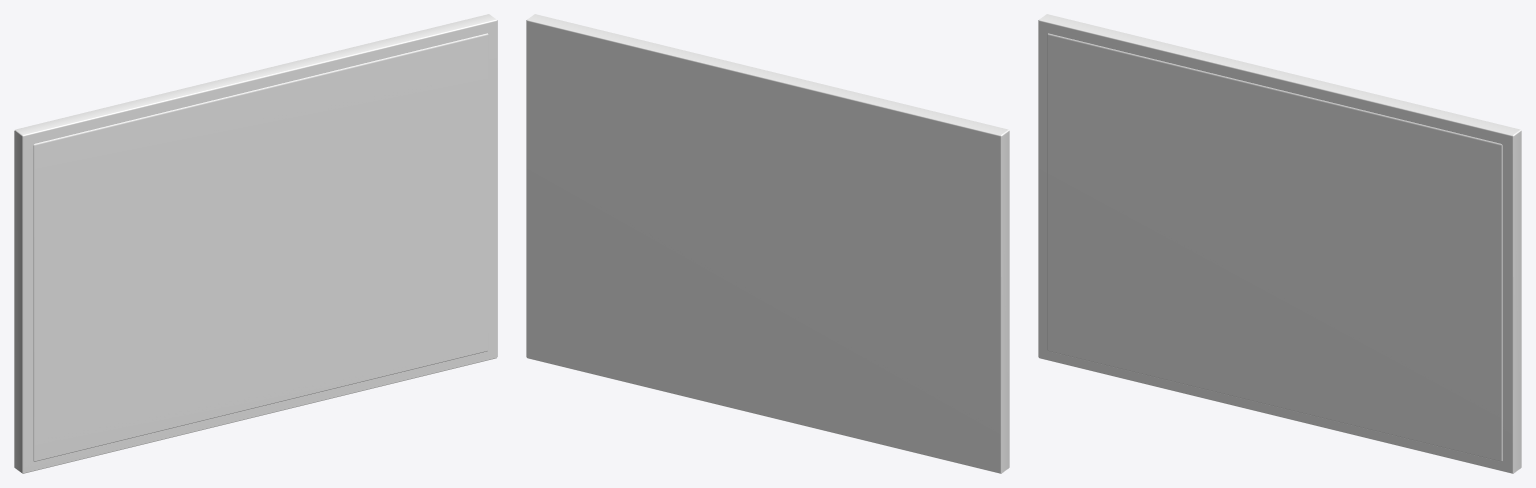
Rendered from world_poster.glb.
The picture shows the model from 3 angles, left to right: view 1: azimuth 30°, elevation 25°; view 2: azimuth 150°, elevation 25°; view 3: azimuth 330°, elevation 25°; orthographic projection.
Parts seen in each view (by area): view 1: WorldPoster; view 2: WorldPoster; view 3: WorldPoster.
Boxes of the visible parts, x1,y1,x2,y2 form: WorldPoster: (14,14,497,473); WorldPoster: (526,14,1009,473); WorldPoster: (1038,14,1521,473).
Bounding box in the file's own units: 0.94 × 0.64 × 0.0345.
1 material, 1 textured.
